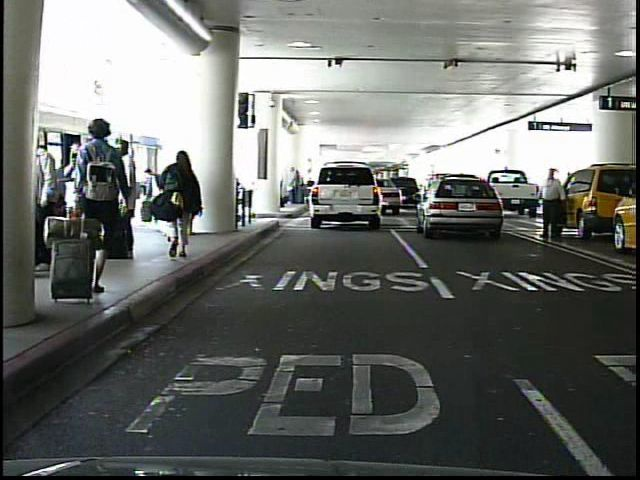person: (73, 113, 128, 305), (158, 144, 203, 268), (32, 126, 65, 277), (107, 137, 145, 258), (539, 167, 567, 244), (171, 156, 195, 235)
